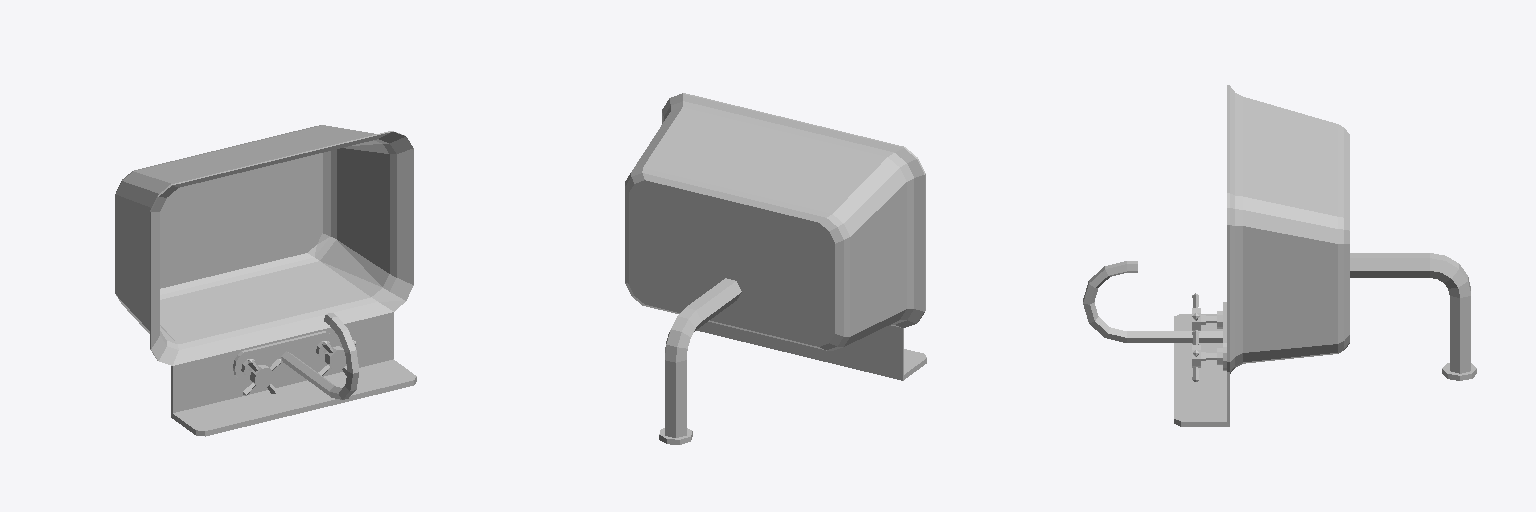
Rendered from sinkkitchen01a_400ec3c9.obj.
3 views of the same model, side by side, from view 1: azimuth 30°, elevation 25°; view 2: azimuth 150°, elevation 25°; view 3: azimuth 270°, elevation 25° (orthographic).
Parts seen in each view (by area): view 1: sinkkitchen01a_alt; view 2: sinkkitchen01a_alt; view 3: sinkkitchen01a_alt.
Boxes of the visible parts, x1=… form: sinkkitchen01a_alt: x1=115, y1=125, x2=416, y2=436; sinkkitchen01a_alt: x1=625, y1=93, x2=926, y2=444; sinkkitchen01a_alt: x1=1083, y1=85, x2=1476, y2=426.
Bounding box in the file's own units: 27.41 × 23.27 × 35.61.